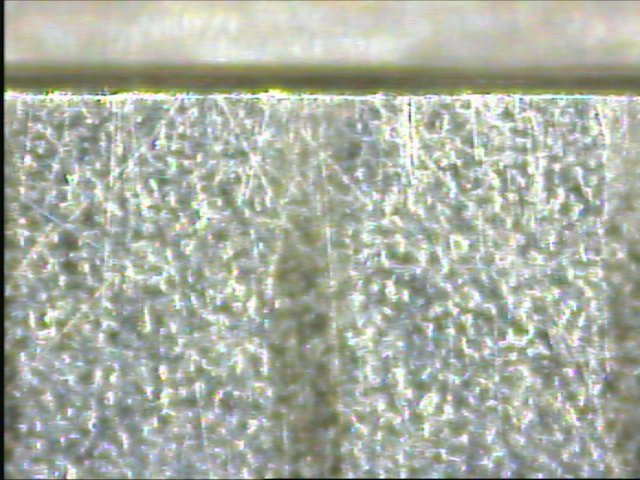line: (265, 100, 345, 472)
